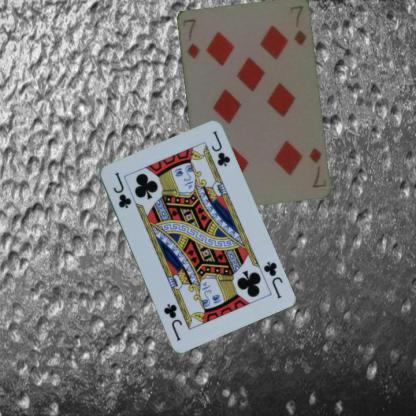7d: (180, 16, 201, 60), (306, 144, 326, 189)
Jc: (260, 259, 284, 300), (110, 169, 133, 210)
